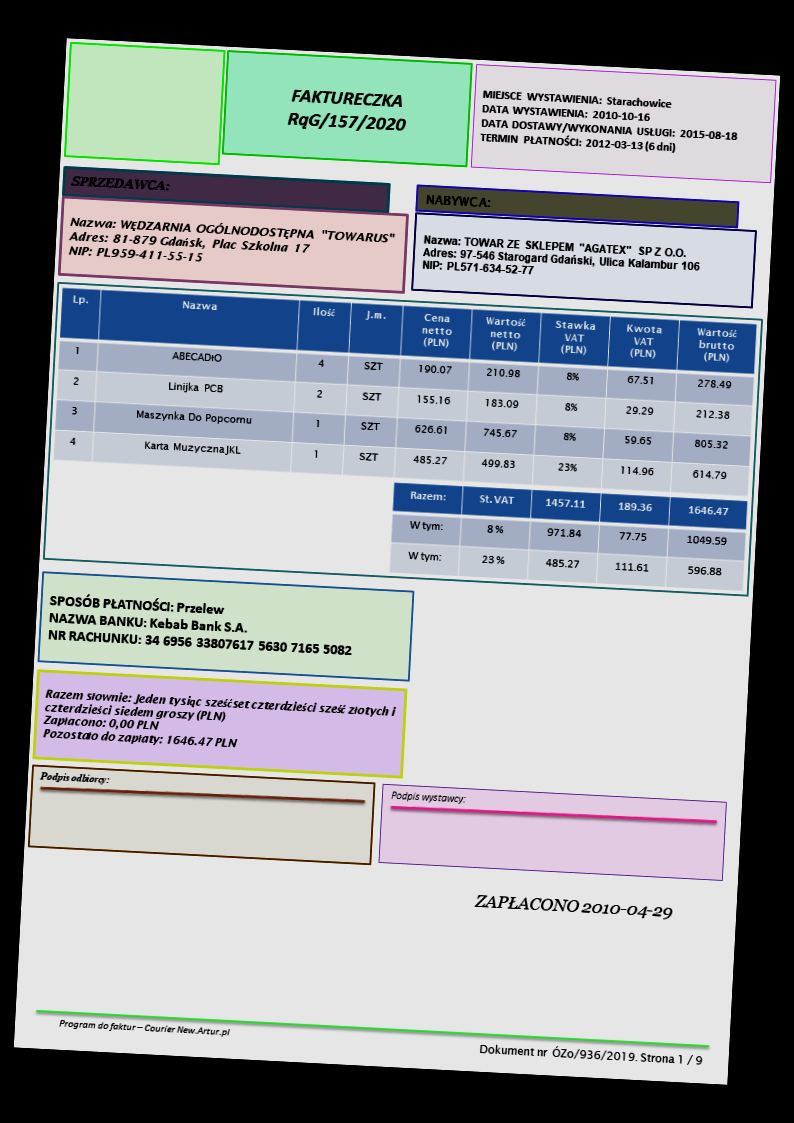Table: (52, 286, 757, 497), (387, 481, 749, 591)
TextBox: (40, 686, 399, 759), (44, 591, 357, 660), (65, 214, 396, 274), (477, 88, 741, 157), (419, 232, 702, 285), (284, 86, 409, 138), (472, 891, 675, 923), (477, 1042, 704, 1068), (55, 1016, 232, 1040), (68, 173, 171, 193), (423, 191, 493, 212), (38, 768, 112, 786), (389, 789, 467, 806)
